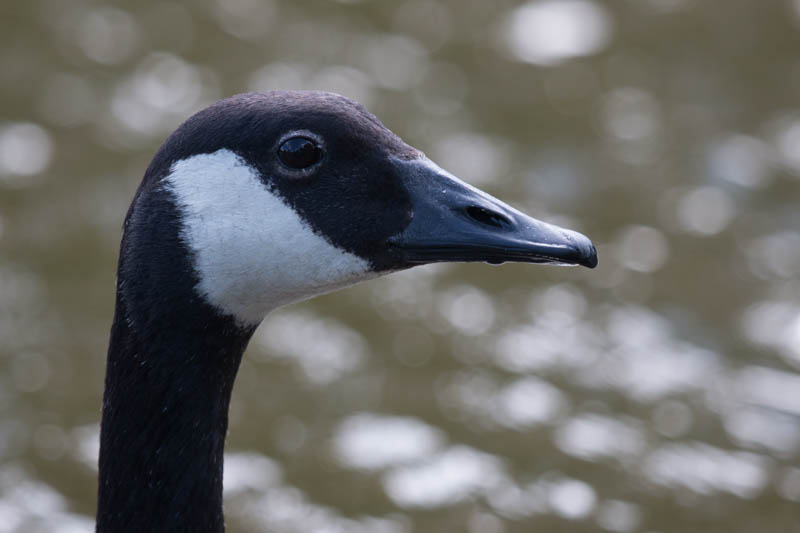goose-head: (119, 89, 599, 329)
